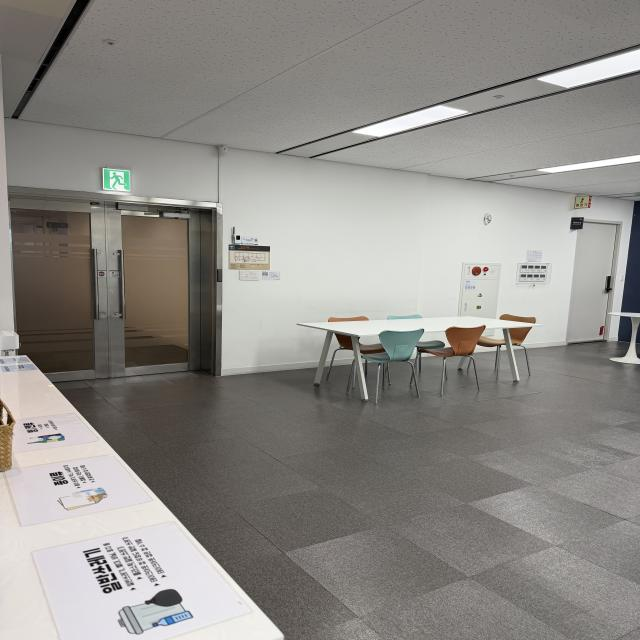rear_door: (11, 196, 213, 381)
